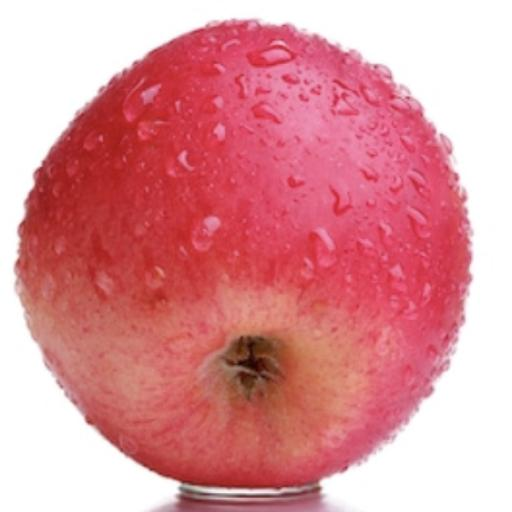apple: (17, 22, 470, 488)
